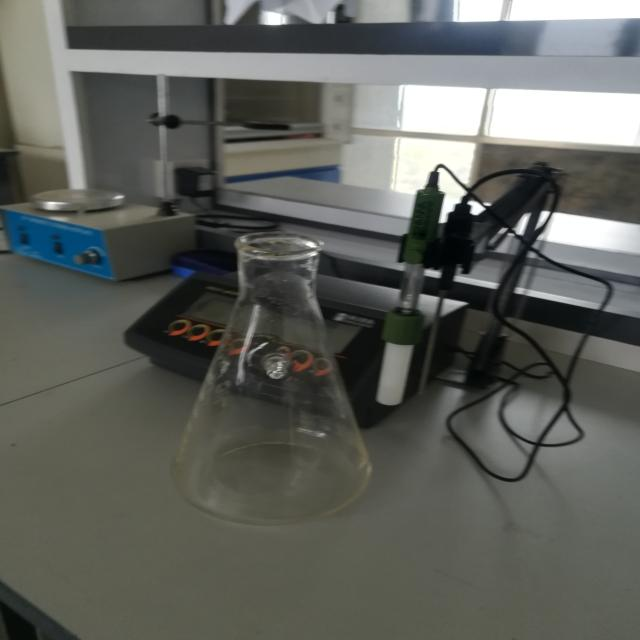Conical_Flask: (136, 208, 401, 546)
